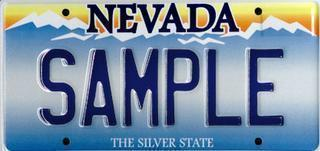placa de veiculo: (3, 1, 319, 151)
